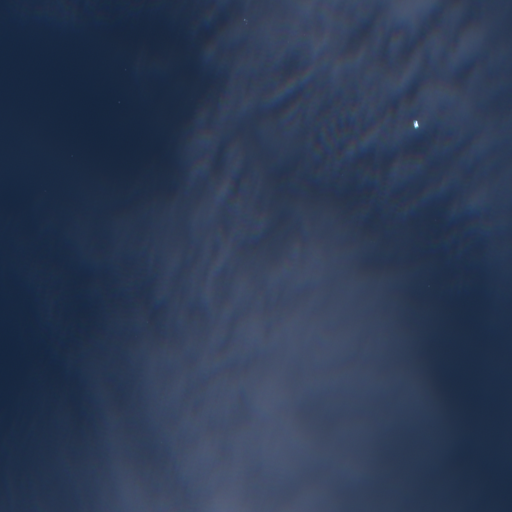Iceberg: (414, 121, 418, 128)
